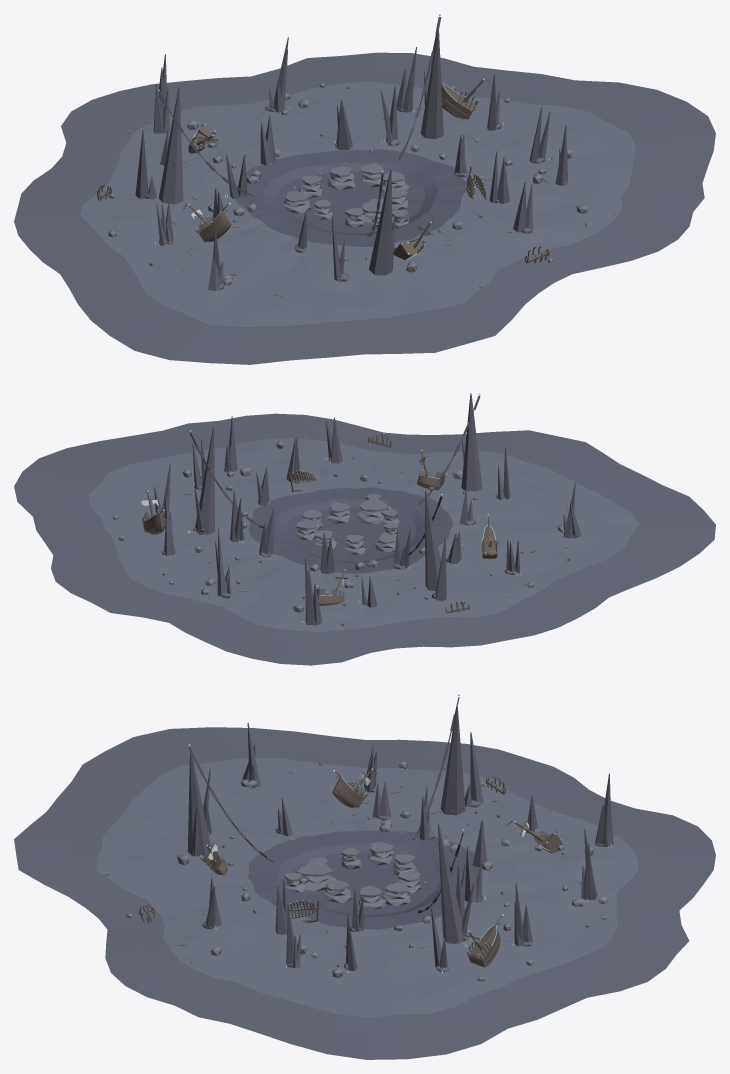
The model's file is island_maelstrom.glb.
The picture shows the model from 3 angles, top to bottom: view 1: azimuth 30°, elevation 25°; view 2: azimuth 150°, elevation 25°; view 3: azimuth 270°, elevation 25°; orthographic projection. The views are drawn at different scales.
Visible parts, largest first — view 1: Maelstrom_Base, Maelstrom_Spires, Maelstrom_Platforms, Maelstrom_Wrecks, Maelstrom_Rocks, Maelstrom_Chains; view 2: Maelstrom_Base, Maelstrom_Spires, Maelstrom_Platforms, Maelstrom_Wrecks, Maelstrom_Rocks, Maelstrom_Chains; view 3: Maelstrom_Base, Maelstrom_Spires, Maelstrom_Platforms, Maelstrom_Wrecks, Maelstrom_Rocks, Maelstrom_Chains.
Part boxes in pixels (x1,y1,x2,y2): Maelstrom_Base: (14,52,715,364); Maelstrom_Spires: (135,28,568,290); Maelstrom_Platforms: (283,163,409,227); Maelstrom_Wrecks: (97,77,549,263); Maelstrom_Rocks: (108,83,587,285); Maelstrom_Chains: (158,16,441,236); Maelstrom_Base: (14,413,715,665); Maelstrom_Spires: (154,393,581,625); Maelstrom_Platforms: (295,494,399,554); Maelstrom_Wrecks: (141,434,498,613); Maelstrom_Rocks: (112,432,564,612); Maelstrom_Chains: (189,395,480,555); Maelstrom_Base: (14,727,715,1059); Maelstrom_Spires: (187,705,613,972); Maelstrom_Platforms: (284,842,421,909); Maelstrom_Wrecks: (139,767,563,967); Maelstrom_Rocks: (126,761,607,981); Maelstrom_Chains: (189,697,463,913).
Size of the model in its own units: 683 by 120 by 609.
